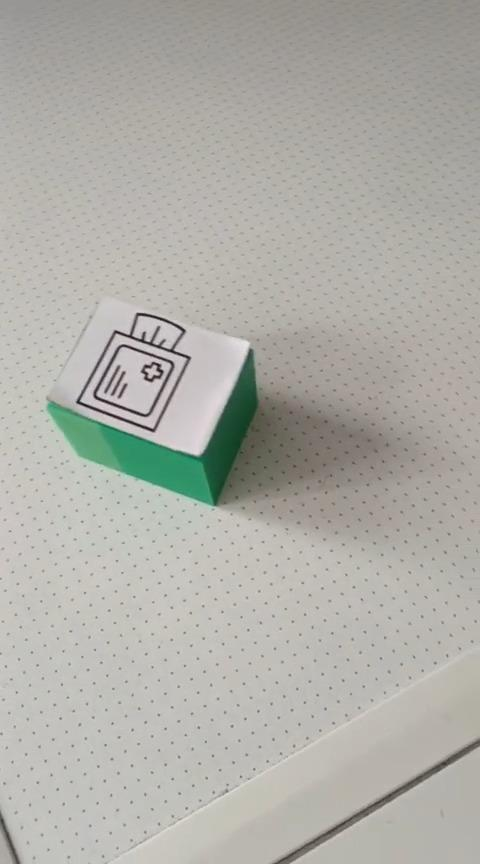Gauze: (44, 294, 258, 507)
